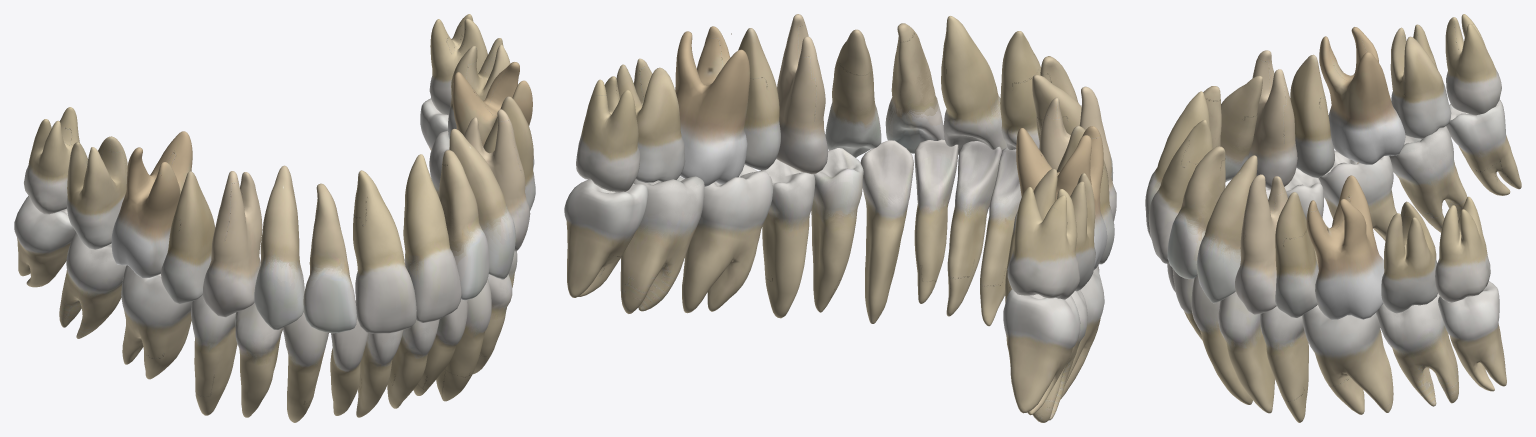
Rendered from permanent-dentition-mobile.glb.
3 views of the same model, side by side, from view 1: azimuth 30°, elevation 25°; view 2: azimuth 150°, elevation 25°; view 3: azimuth 270°, elevation 25° (orthographic). The views are drawn at different scales.
Parts seen in each view (by area): view 1: ZBrushPolyMesh3D2 (×2), ZBrushPolyMesh3D1 (×2), polySurface2, polySurface8, ZBrushPolyMesh3D3 (×2), polySurface1, ZBrushPolyMesh3D5 (×2), ZBrushPolyMesh3D8, polySurface6, ZBrushPolyMesh3D4 (×2), ZBrushPolyMesh3D7 (×2), polySurface10 (+12 smaller); view 2: ZBrushPolyMesh3D7 (×2), ZBrushPolyMesh3D5, LL6seam_2:ZBrushPolyMesh3D, LL7seam_2:ZBrushPolyMesh3D, ZBrushPolyMesh3D, LL8seam_2:ZBrushPolyMesh3D, ZBrushPolyMesh3D2 (×2), LL3seam_2:ZBrushPolyMesh3D, polySurface12, ZBrushPolyMesh3D1 (×2), ZBrushPolyMesh3D3, polySurface1 (+13 smaller); view 3: ZBrushPolyMesh3D1 (×2), ZBrushPolyMesh3D2 (×2), ZBrushPolyMesh3D5, polySurface8, LL6seam_2:ZBrushPolyMesh3D, LL7seam_2:ZBrushPolyMesh3D, ZBrushPolyMesh3D4 (×2), polySurface10, ZBrushPolyMesh3D3, polySurface9, LL8seam_2:ZBrushPolyMesh3D, ZBrushPolyMesh3D8 (+12 smaller).
Boxes of the visible parts, left/top/right/bottom form: ZBrushPolyMesh3D2 (×2): left=121, top=128, right=515, bottom=379; ZBrushPolyMesh3D1 (×2): left=59, top=150, right=489, bottom=338; polySurface2: left=353, top=170, right=416, bottom=333; polySurface8: left=111, top=131, right=192, bottom=278; ZBrushPolyMesh3D3 (×2): left=235, top=109, right=530, bottom=417; polySurface1: left=403, top=154, right=461, bottom=322; ZBrushPolyMesh3D5 (×2): left=283, top=62, right=534, bottom=422; ZBrushPolyMesh3D8: left=202, top=171, right=262, bottom=317; polySurface6: left=254, top=165, right=304, bottom=329; ZBrushPolyMesh3D4 (×2): left=191, top=96, right=535, bottom=415; ZBrushPolyMesh3D7 (×2): left=356, top=14, right=487, bottom=417; polySurface10: left=66, top=136, right=127, bottom=249; ZBrushPolyMesh3D7 (×2): left=576, top=76, right=1021, bottom=326; ZBrushPolyMesh3D5: left=675, top=26, right=750, bottom=186; LL6seam_2:ZBrushPolyMesh3D: left=682, top=164, right=772, bottom=313; LL7seam_2:ZBrushPolyMesh3D: left=620, top=176, right=704, bottom=313; ZBrushPolyMesh3D: left=1003, top=289, right=1080, bottom=415; LL8seam_2:ZBrushPolyMesh3D: left=564, top=179, right=648, bottom=297; ZBrushPolyMesh3D2 (×2): left=825, top=29, right=1104, bottom=399; LL3seam_2:ZBrushPolyMesh3D: left=860, top=140, right=913, bottom=323; polySurface12: left=1007, top=187, right=1079, bottom=299; ZBrushPolyMesh3D1 (×2): left=885, top=23, right=1087, bottom=422; ZBrushPolyMesh3D3: left=776, top=14, right=827, bottom=174; polySurface1: left=941, top=16, right=1007, bottom=154; ZBrushPolyMesh3D1 (×2): left=1167, top=126, right=1467, bottom=279; ZBrushPolyMesh3D2 (×2): left=1196, top=150, right=1396, bottom=303; ZBrushPolyMesh3D5: left=1306, top=175, right=1384, bottom=320; polySurface8: left=1319, top=27, right=1405, bottom=164; LL6seam_2:ZBrushPolyMesh3D: left=1302, top=305, right=1393, bottom=414; LL7seam_2:ZBrushPolyMesh3D: left=1376, top=293, right=1458, bottom=406; ZBrushPolyMesh3D4 (×2): left=1275, top=168, right=1323, bottom=317; polySurface10: left=1390, top=24, right=1451, bottom=138; ZBrushPolyMesh3D3: left=1235, top=174, right=1287, bottom=314; polySurface9: left=1381, top=201, right=1437, bottom=313; LL8seam_2:ZBrushPolyMesh3D: left=1438, top=281, right=1506, bottom=391; ZBrushPolyMesh3D8: left=1248, top=50, right=1297, bottom=189.
Bounding box in the file's own units: 2.59 × 1.54 × 1.91.
16 materials, 16 textured.
